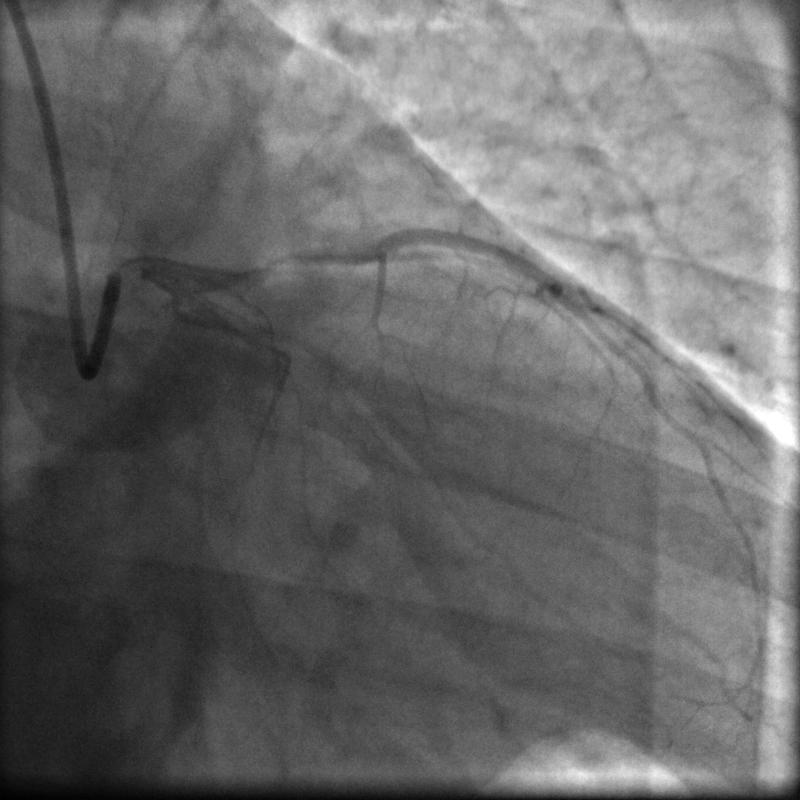Stenosis: (235, 251, 329, 282)
